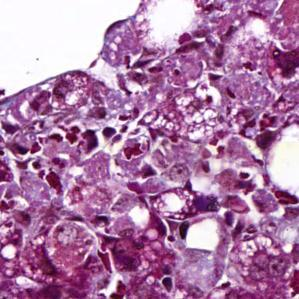ballooning: (45, 219, 98, 272)
